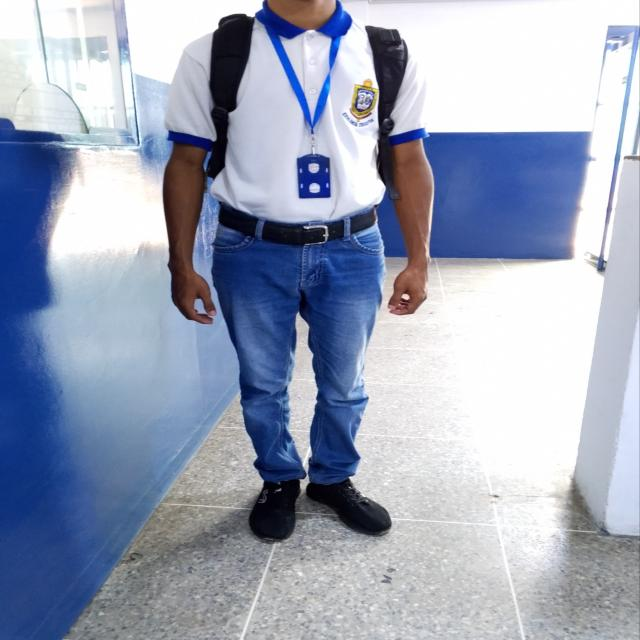carnet: (298, 156, 330, 199)
uniforme_superior: (162, 0, 429, 224)
